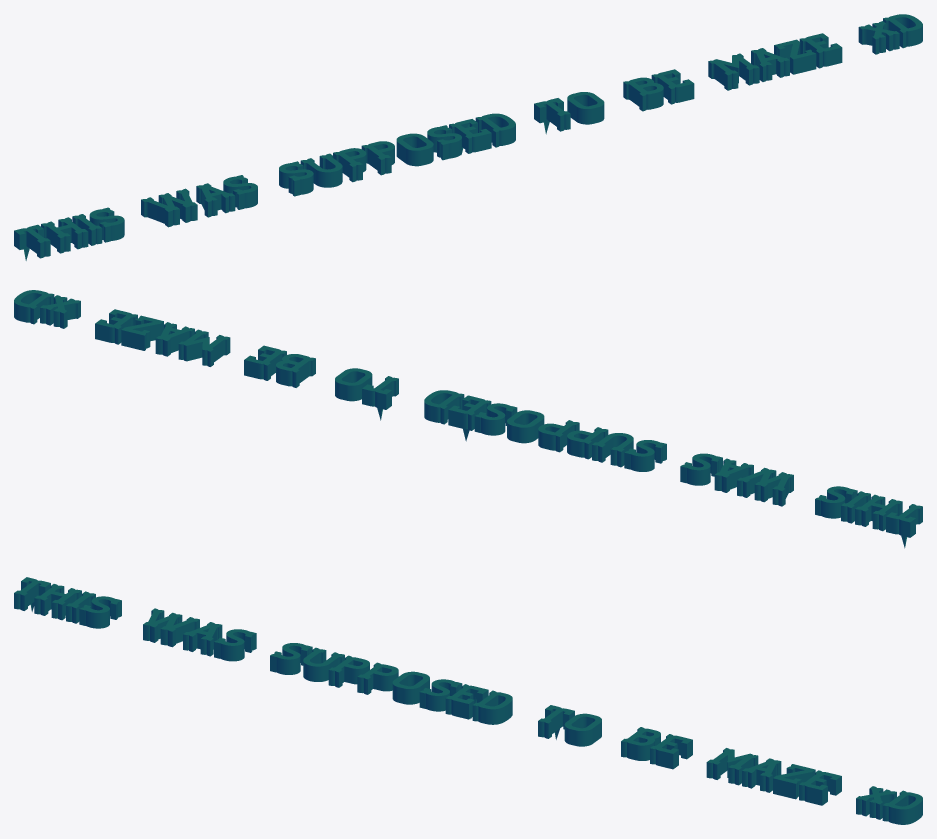
The model's file is ThisWasSupposedToBeMaze.fbx.
3 renders of one model, top to bottom at view 1: azimuth 30°, elevation 25°; view 2: azimuth 150°, elevation 25°; view 3: azimuth 330°, elevation 25°, orthographic.
Parts seen in each view (by area): view 1: Text; view 2: Text; view 3: Text.
Boxes of the visible parts, x1,y1,x2,y2 form: Text: (14, 14, 922, 260); Text: (14, 290, 922, 548); Text: (14, 577, 922, 824).
Bounding box in the file's own units: 2853 × 94 × 111.
